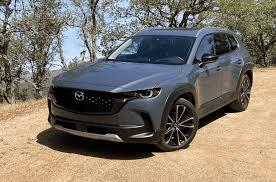mazda: (70, 89, 86, 102)
